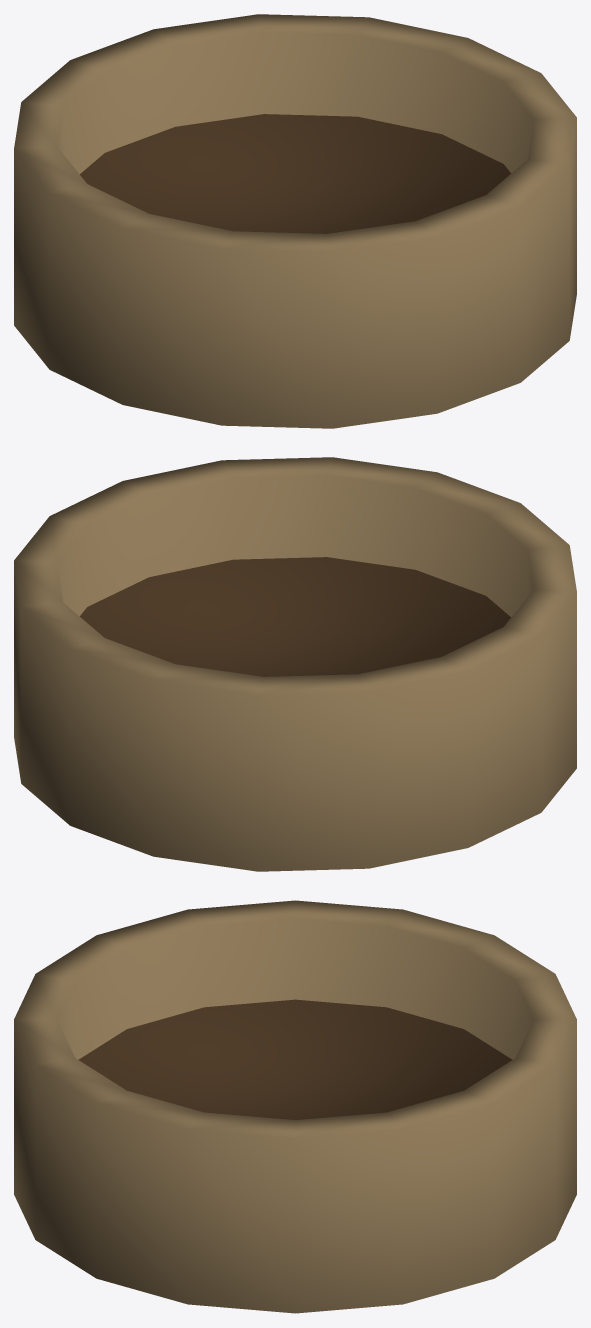
The model's file is CatFood.fbx.
3 renders of one model, top to bottom at view 1: azimuth 30°, elevation 25°; view 2: azimuth 150°, elevation 25°; view 3: azimuth 270°, elevation 25°, orthographic.
Parts seen in each view (by area): view 1: Water Cat; view 2: Water Cat; view 3: Water Cat.
Boxes of the visible parts, box(x1,y1,x2,y2) form: Water Cat: box(14, 14, 576, 428); Water Cat: box(14, 457, 576, 871); Water Cat: box(14, 900, 576, 1313).
Size of the model in its own units: 50.45 by 17.32 by 50.45.
